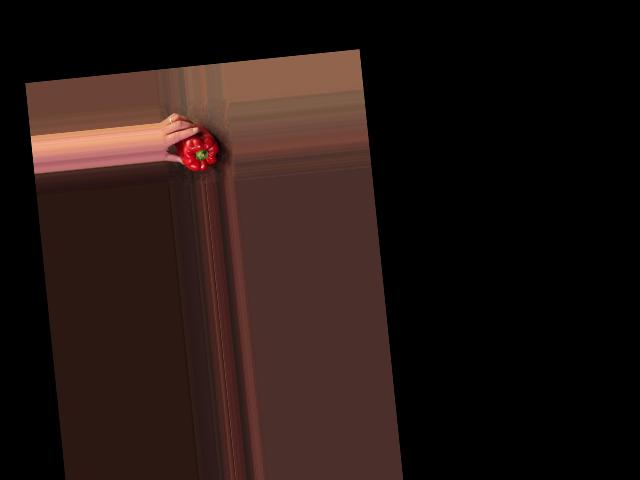bell_pepper: (175, 126, 221, 174)
